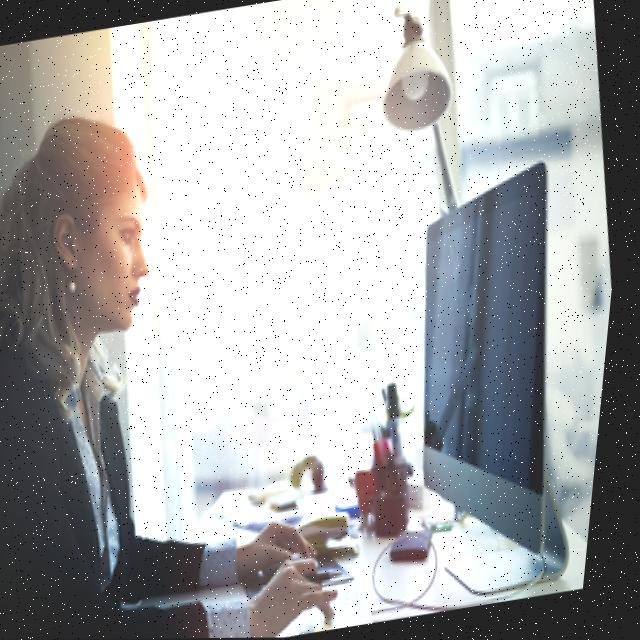desktop-person: (0, 24, 638, 640)
